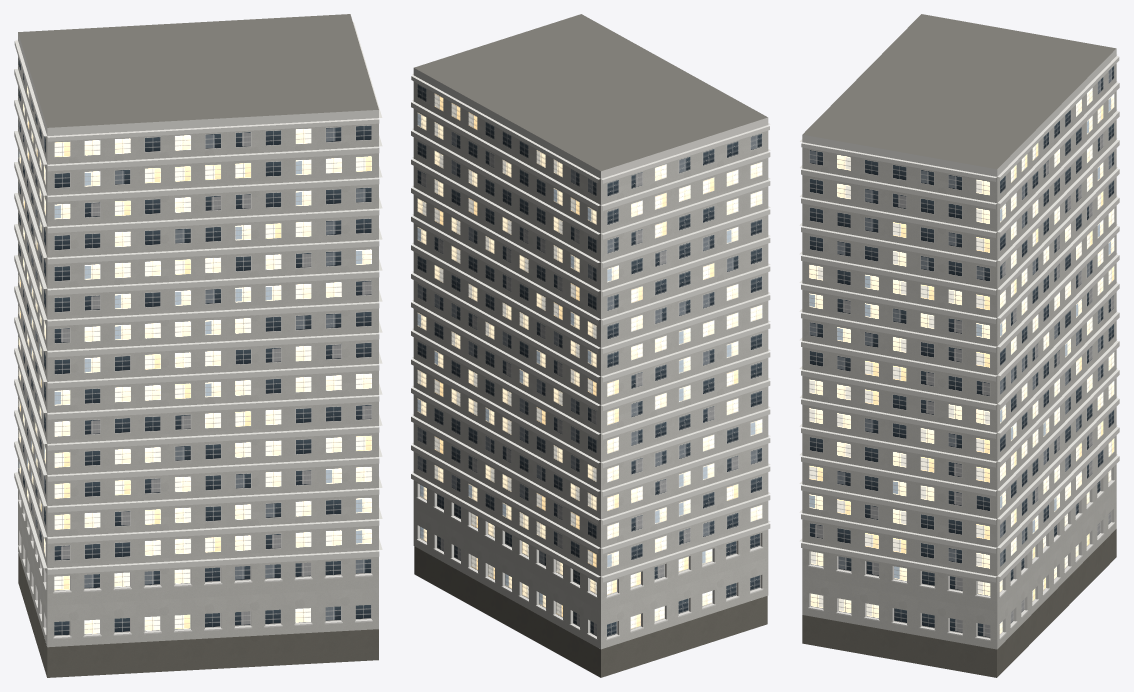
Rendered from z5R2_tower_white.glb.
3 renders of one model, left to right at view 1: azimuth 30°, elevation 25°; view 2: azimuth 150°, elevation 25°; view 3: azimuth 270°, elevation 25°, orthographic. The views are drawn at different scales.
Parts seen in each view (by area): view 1: z5R2_tower_white; view 2: z5R2_tower_white; view 3: z5R2_tower_white.
Part boxes in pixels (bbox=[...]): z5R2_tower_white: bbox=[14, 14, 382, 677]; z5R2_tower_white: bbox=[411, 14, 770, 677]; z5R2_tower_white: bbox=[799, 14, 1119, 677].
Size of the model in its own units: 35.44 by 53.26 by 30.38.
Materials: 3 (3 with a texture image).
